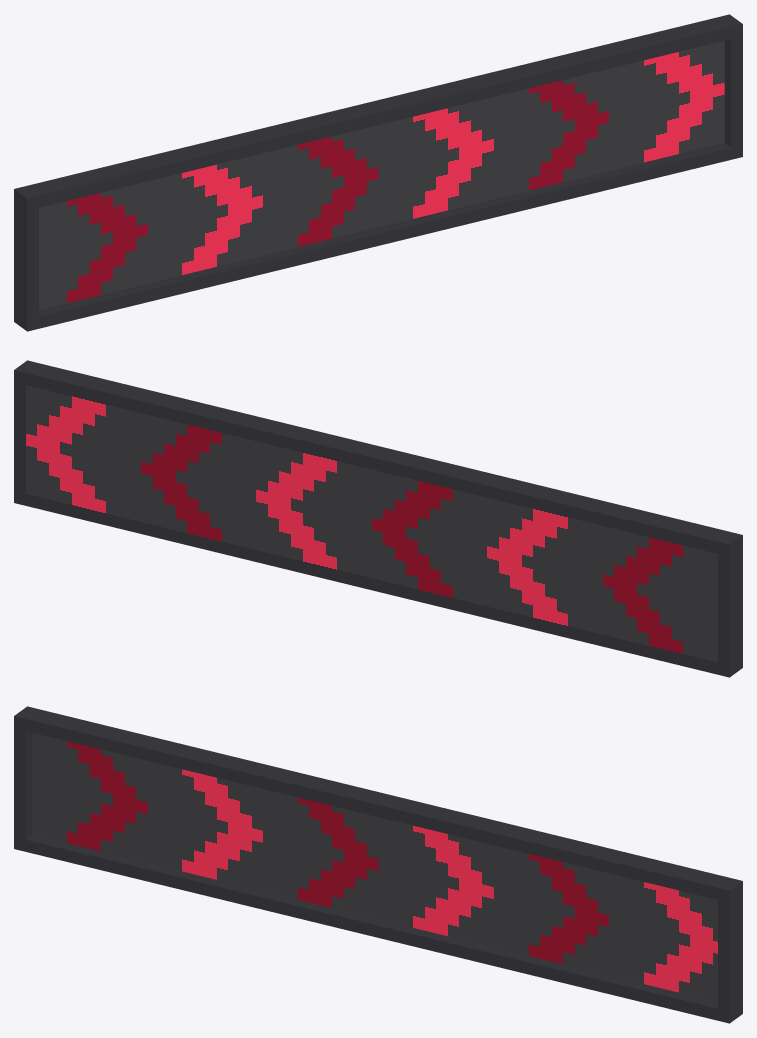
Rendered from 指示灯2.gltf.
3 renders of one model, top to bottom at view 1: azimuth 30°, elevation 25°; view 2: azimuth 150°, elevation 25°; view 3: azimuth 330°, elevation 25°, orthographic.
Visible parts, largest first — view 1: Group; view 2: Group; view 3: Group.
Part boxes in pixels (x1,y1,x2,y2): Group: [14, 14, 742, 331]; Group: [14, 360, 742, 677]; Group: [14, 706, 742, 1023].
Bounding box in the file's own units: 62 × 11 × 2.
1 material, 1 textured.
